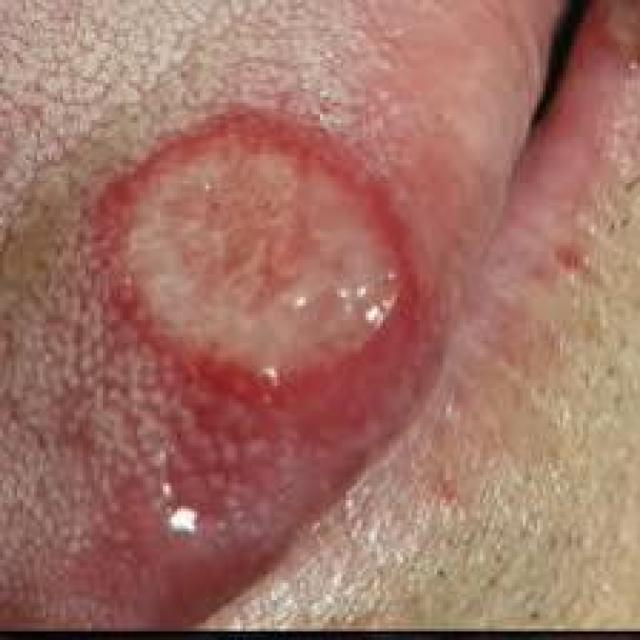processing_area: (1, 0, 560, 629)
ulcer-detection: (70, 83, 446, 446)
